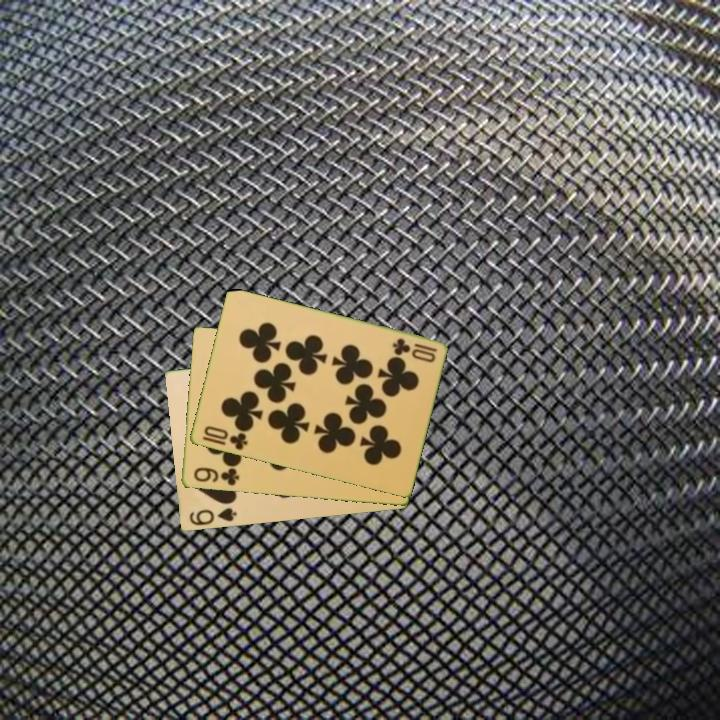10c: (200, 422, 250, 453), (388, 335, 440, 357)
6s: (186, 504, 239, 529)
9c: (190, 464, 242, 489)
